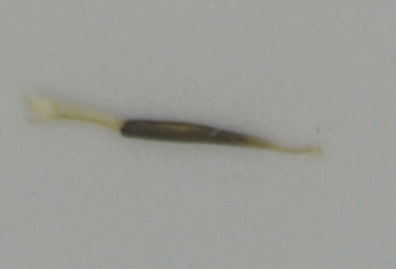เมล็ดงอกแตก: (23, 95, 323, 161)
